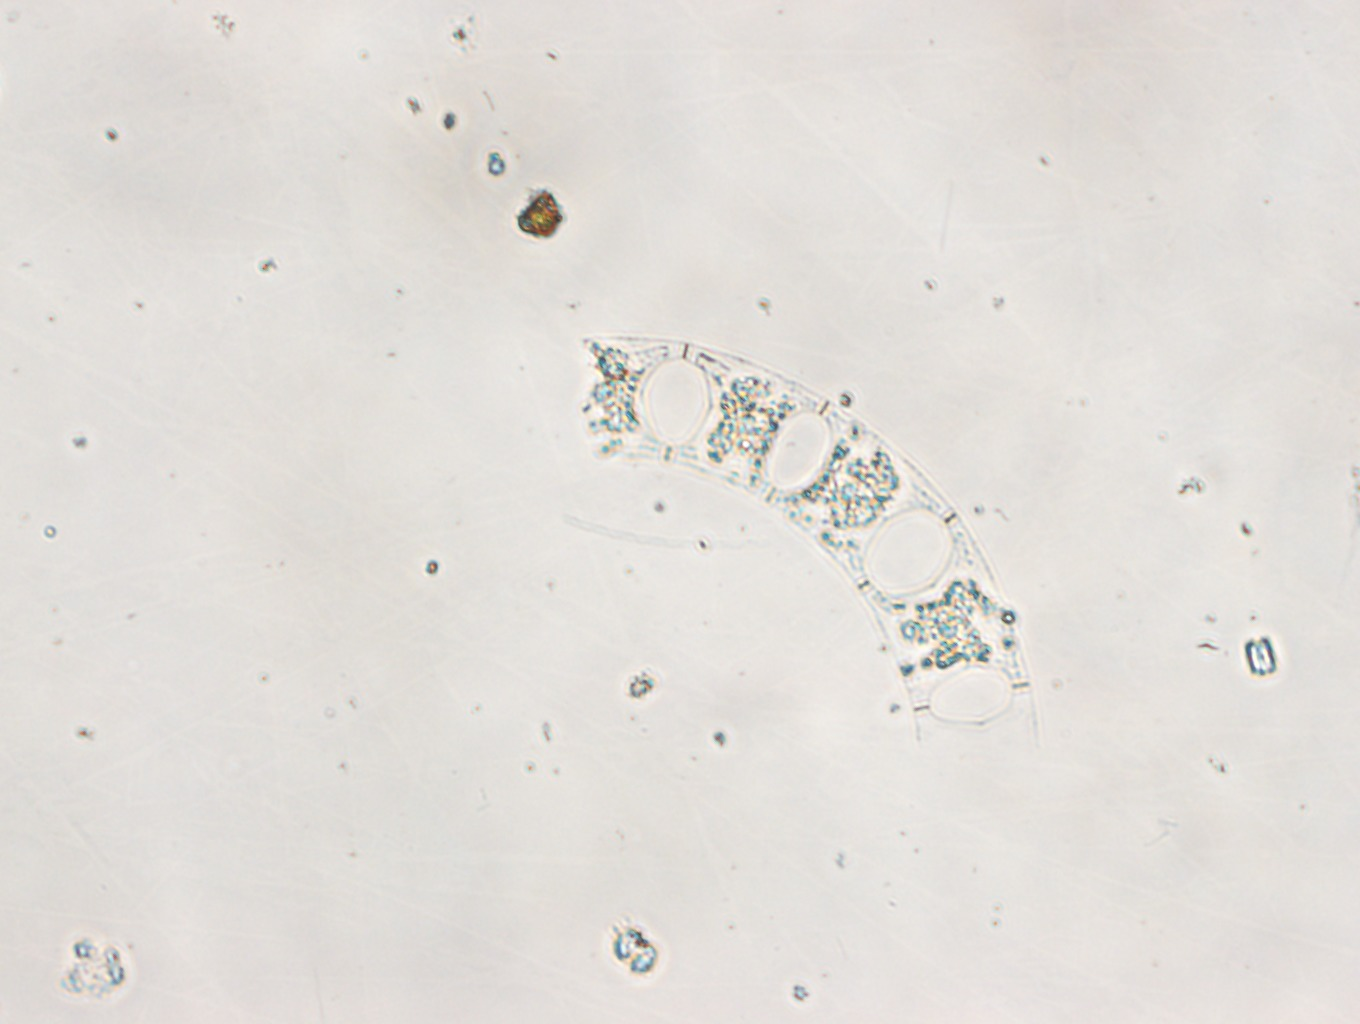eucampia: (576, 332, 1040, 766)
